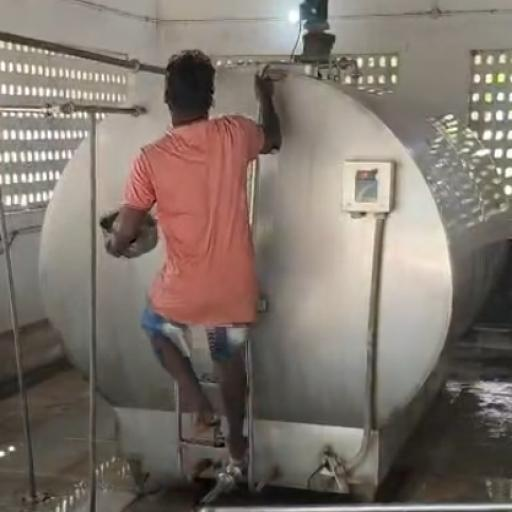silo: (37, 45, 510, 493)
vessel: (98, 209, 155, 258)
